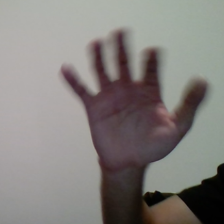left: (58, 23, 216, 169)
